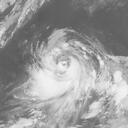cyclone: (25, 28, 103, 100)
